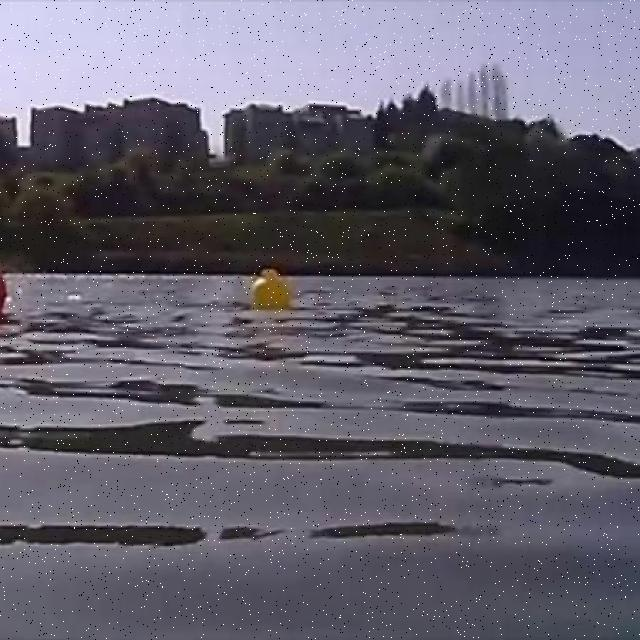buoy: (252, 270, 290, 310)
